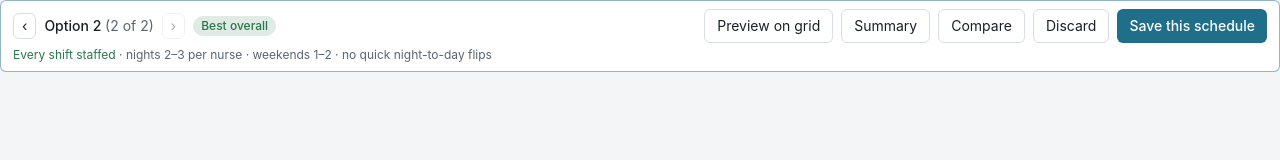
saving the option the manager picked as the draft › shows the reason when saving is refused
Click the button with test id "candidate-save": click(1192, 26) [1117, 9, 1267, 43]
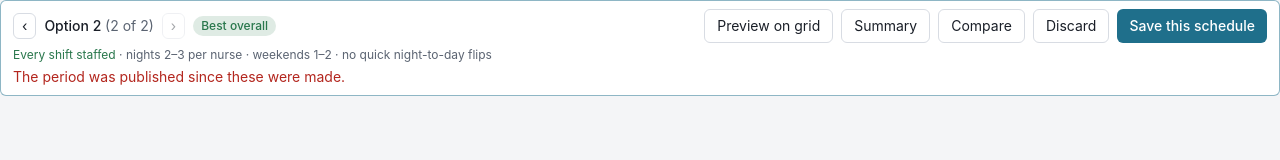
Result: the message reads "The period was published since these were made." at [13, 68, 345, 85]
